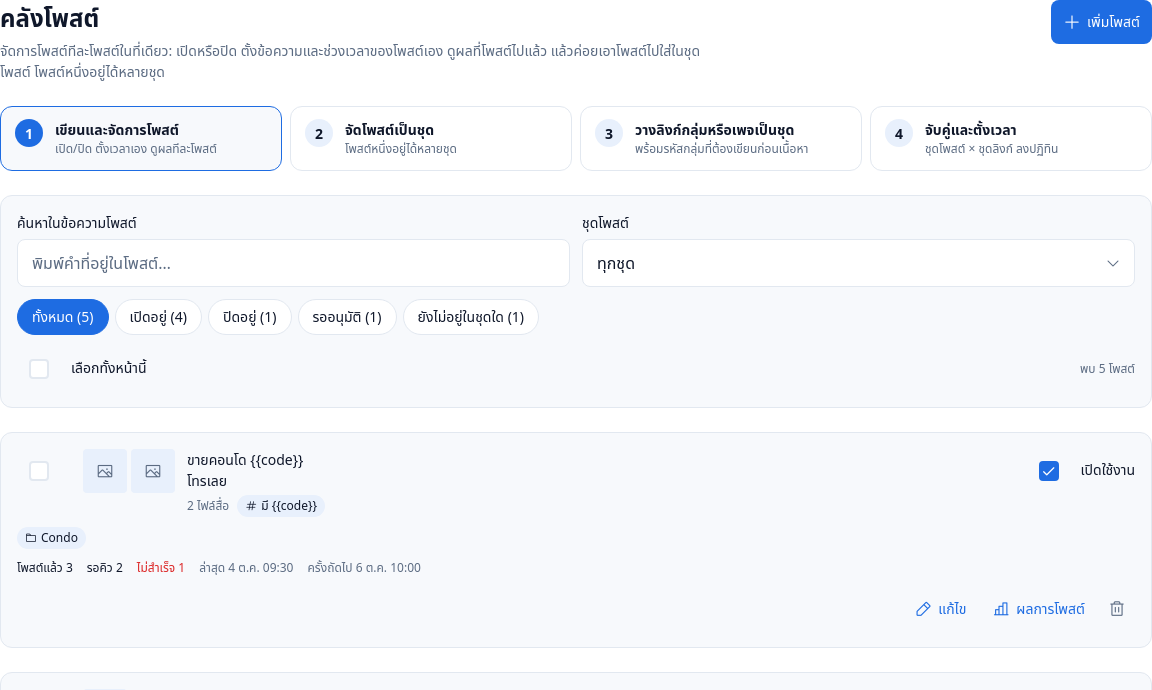
it: PostsPageComponent › search, filters and paging › says when nothing matches, and the page controls stay out of the way
Type "ไม่มีแน่นอน" into the field labelled "ค้นหาในข้อความโพสต์" at (294, 263), box left=17, top=239, right=570, bottom=287
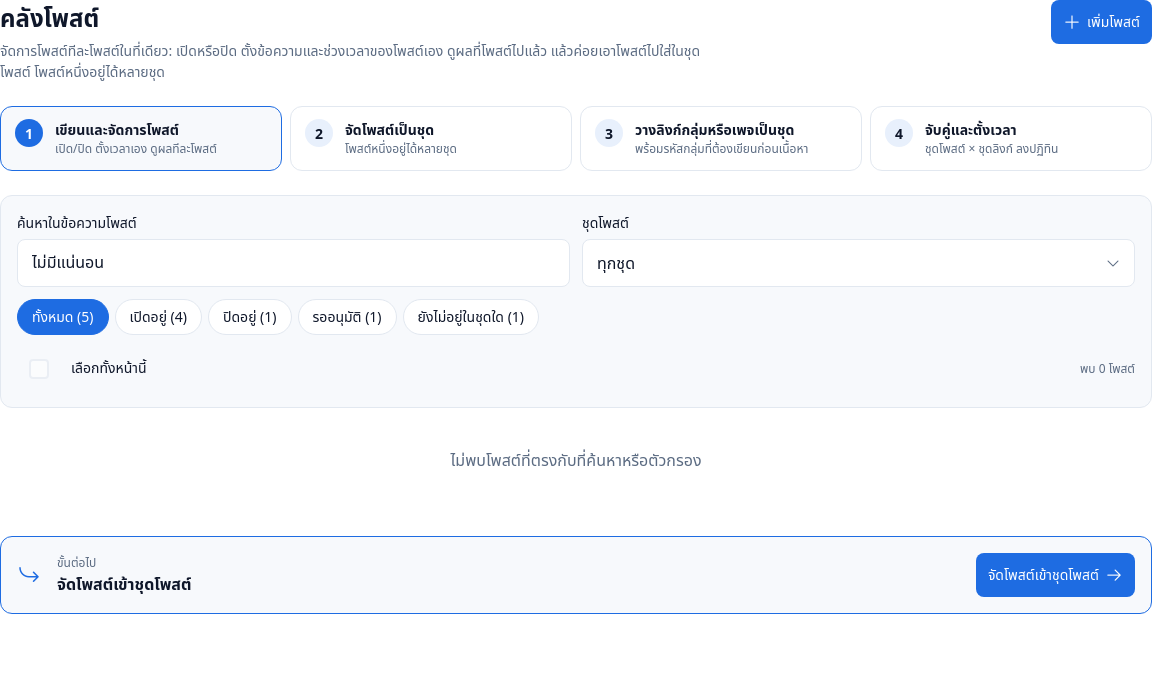
Now the text with class "nomatch" reads "ไม่พบโพสต์ที่ตรงกับที่ค้นหาหรือตัวกรอง", box left=450, top=449, right=702, bottom=471
